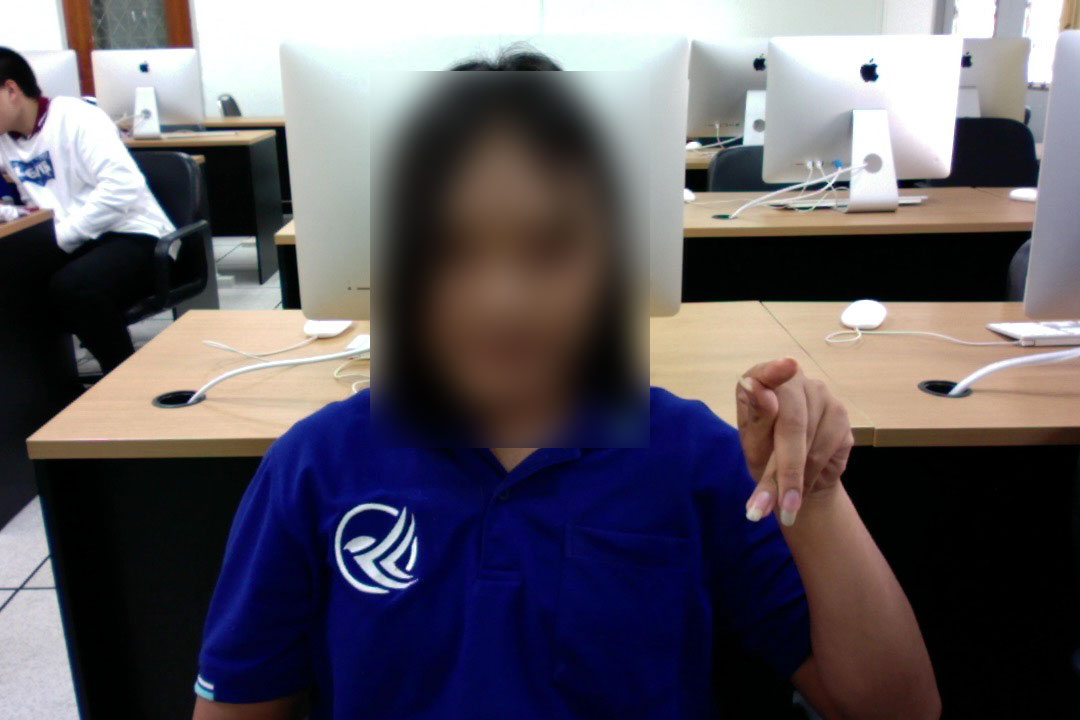por: (723, 342, 861, 531)
